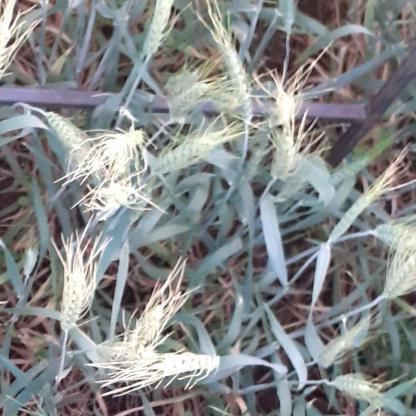whd: (215, 25, 252, 125), (327, 182, 384, 244), (149, 133, 221, 175), (122, 301, 166, 362), (140, 0, 173, 61), (44, 111, 86, 156), (146, 352, 220, 377), (60, 266, 88, 330), (0, 0, 22, 81), (328, 148, 377, 184), (167, 83, 210, 124), (314, 329, 357, 368), (382, 251, 416, 299), (370, 223, 416, 256), (327, 374, 381, 401), (270, 126, 297, 178), (93, 180, 137, 211), (102, 130, 143, 160), (204, 86, 242, 111), (158, 71, 199, 94), (242, 144, 266, 180), (107, 148, 132, 179), (276, 177, 307, 200), (276, 83, 291, 122), (279, 0, 296, 29), (24, 247, 37, 278), (142, 346, 156, 360)
